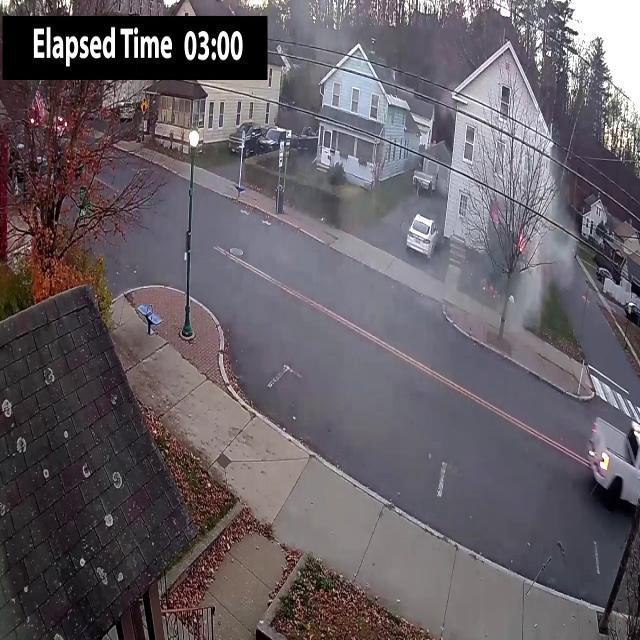Fire: (508, 232, 530, 259)
Smoke: (480, 155, 596, 348)
